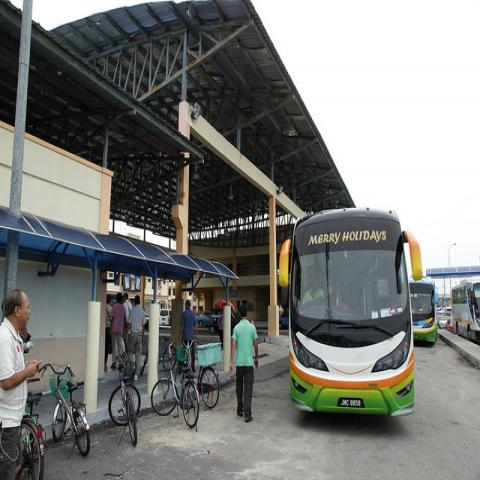bus: (277, 208, 423, 413), (408, 273, 437, 343), (452, 276, 480, 344)
car: (208, 308, 241, 335), (145, 309, 172, 333), (196, 310, 210, 327)
